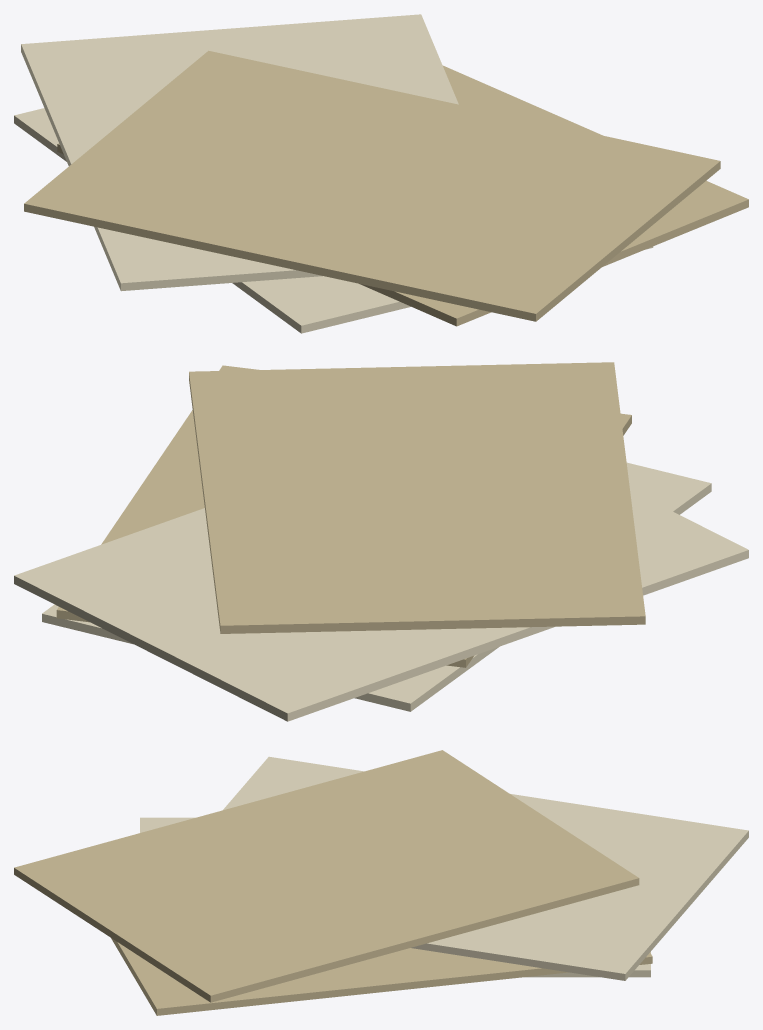
File: papers.glb
3 views of the same model, one above another, from view 1: azimuth 30°, elevation 25°; view 2: azimuth 150°, elevation 25°; view 3: azimuth 270°, elevation 25° (orthographic). The views are drawn at different scales.
Visible parts, largest first — view 1: papers; view 2: papers; view 3: papers.
Part boxes in pixels (x1,y1,x2,y2): papers: [14, 14, 748, 333]; papers: [14, 362, 748, 721]; papers: [14, 750, 748, 1015].
Size of the model in its own units: 0.3384 by 0.018 by 0.4272.
